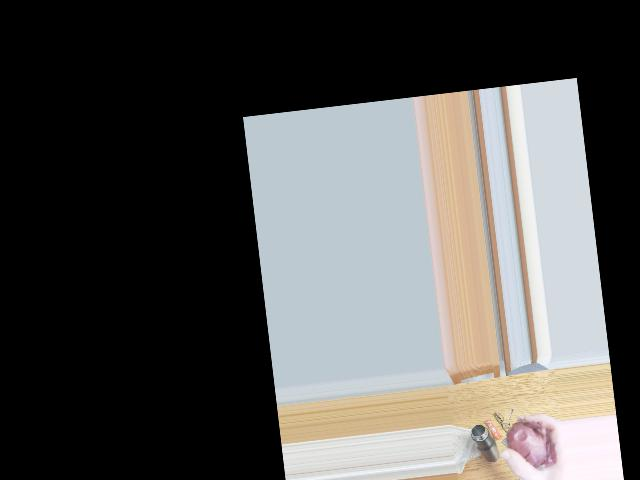onion: (506, 418, 553, 474)
